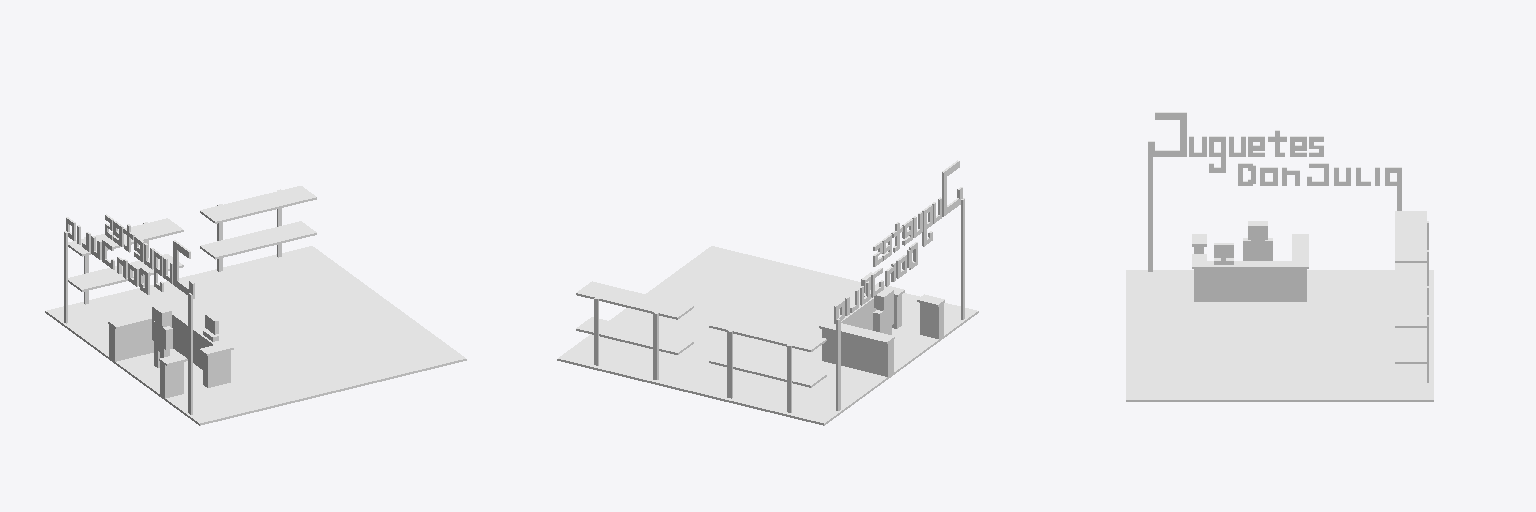
The model's file is toy-store-11-store.obj.
3 renders of one model, left to right at view 1: azimuth 30°, elevation 25°; view 2: azimuth 150°, elevation 25°; view 3: azimuth 270°, elevation 25°, orthographic.
Parts seen in each view (by area): view 1: store; view 2: store; view 3: store.
Part boxes in pixels (left/top/right/bottom): store: left=45, top=186, right=466, bottom=425; store: left=557, top=160, right=978, bottom=425; store: left=1126, top=112, right=1433, bottom=401.
Size of the model in its own units: 12.6 by 7.3 by 12.6.